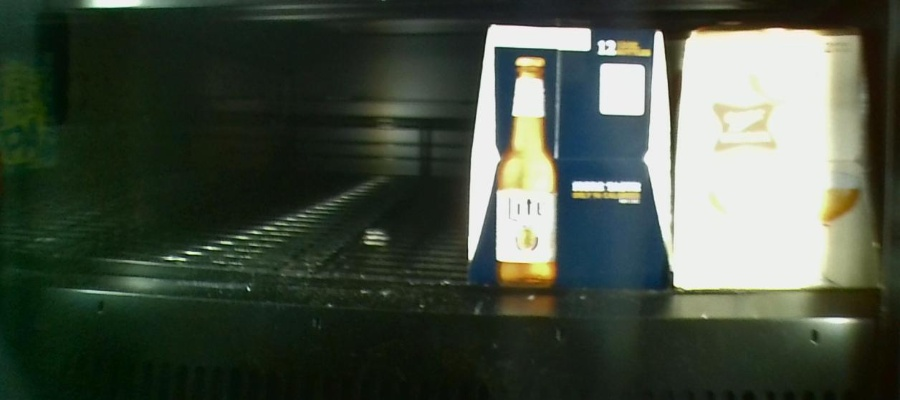bottle: (671, 27, 886, 294), (473, 20, 675, 289)
